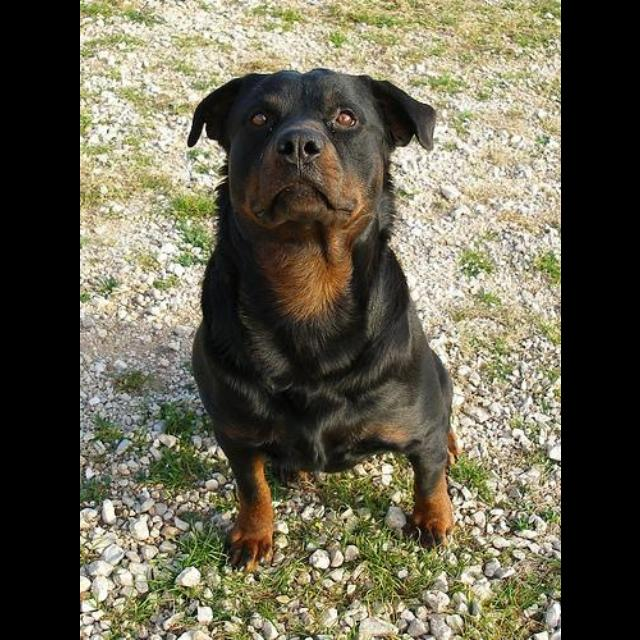rottweiler: (187, 68, 459, 576)
